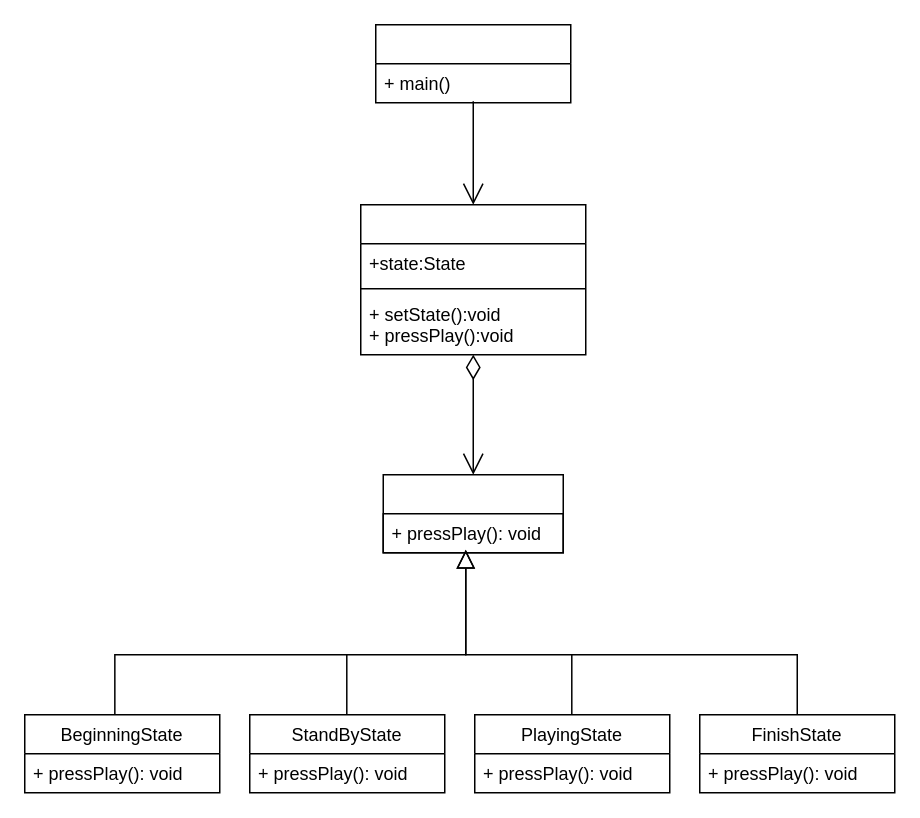
Some shapes in this 920 by 818 pixel diagram are drawn without their labels. Each missing label, with the box of its shape:
State: (382, 473, 563, 553)
VideoPlayer: (374, 23, 571, 103)
VideoPlayerContext: (359, 203, 586, 355)
